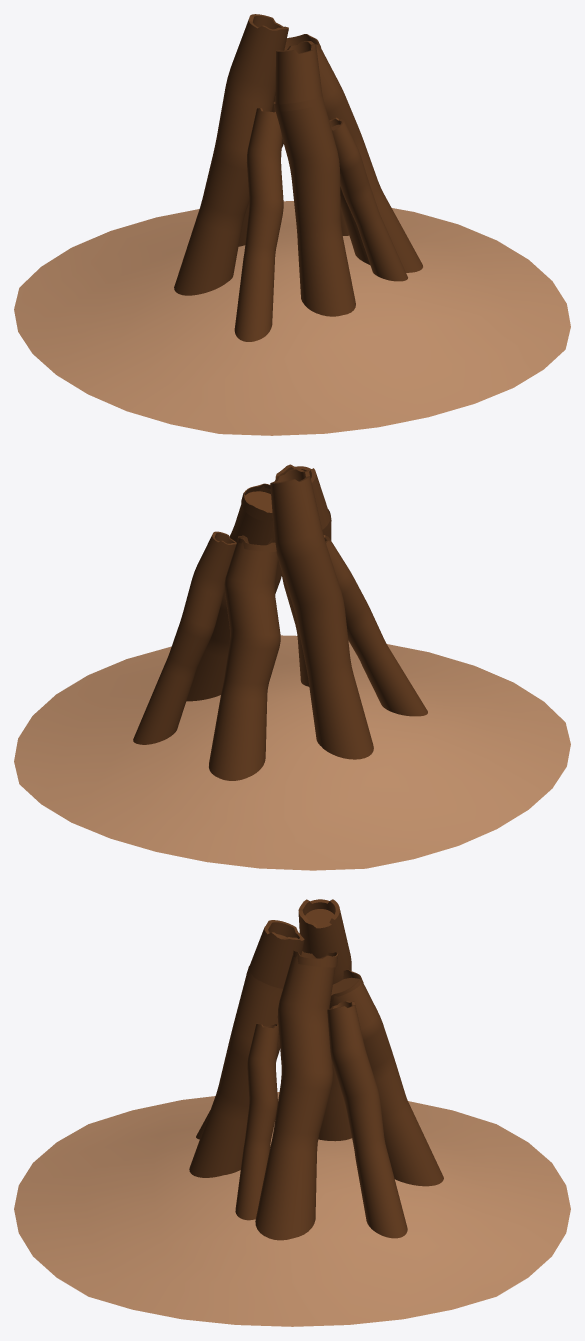
The model's file is hoguera sin pedras.glb.
The picture shows the model from 3 angles, top to bottom: view 1: azimuth 30°, elevation 25°; view 2: azimuth 150°, elevation 25°; view 3: azimuth 270°, elevation 25°; orthographic projection. The views are drawn at different scales.
Parts seen in each view (by area): view 1: Cylinder.005; view 2: Cylinder.005; view 3: Cylinder.005.
Boxes of the visible parts, x1,y1,x2,y2 form: Cylinder.005: (14, 14, 570, 435); Cylinder.005: (14, 464, 570, 870); Cylinder.005: (14, 899, 570, 1326).
Bounding box in the file's own units: 1.53 × 0.9374 × 1.53.
